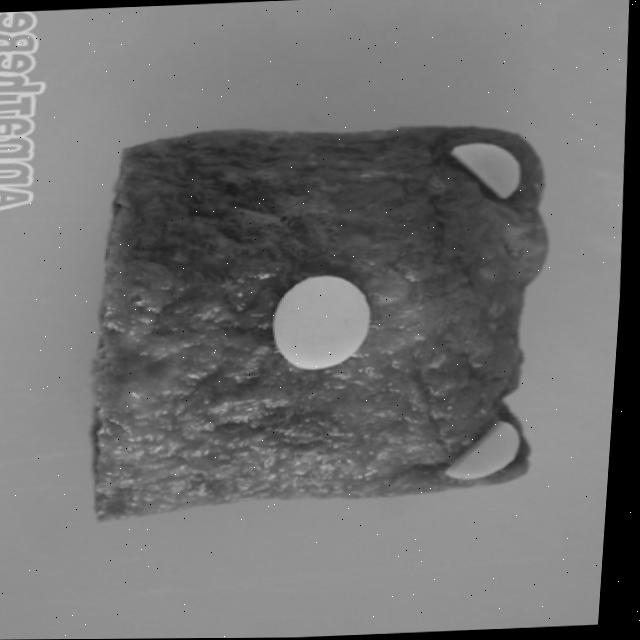寿司卷物: (80, 113, 580, 530)
